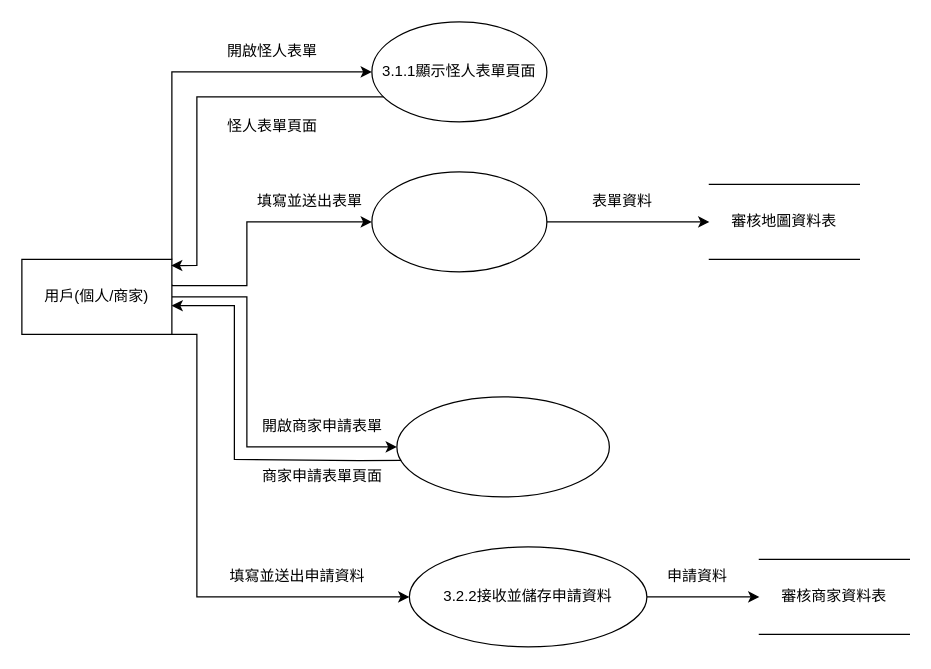
Some shapes in this 931 by 669 pixel diagram are drawn without their labels. The shapes that lost their labels are listed below. From the top down, each one's centre as x and y in pixels, then its label:
At pixel 459 221: "3.1.2接收並儲存表單資料".
At pixel 502 446: "3.2.1顯示商家申請表單頁面".
